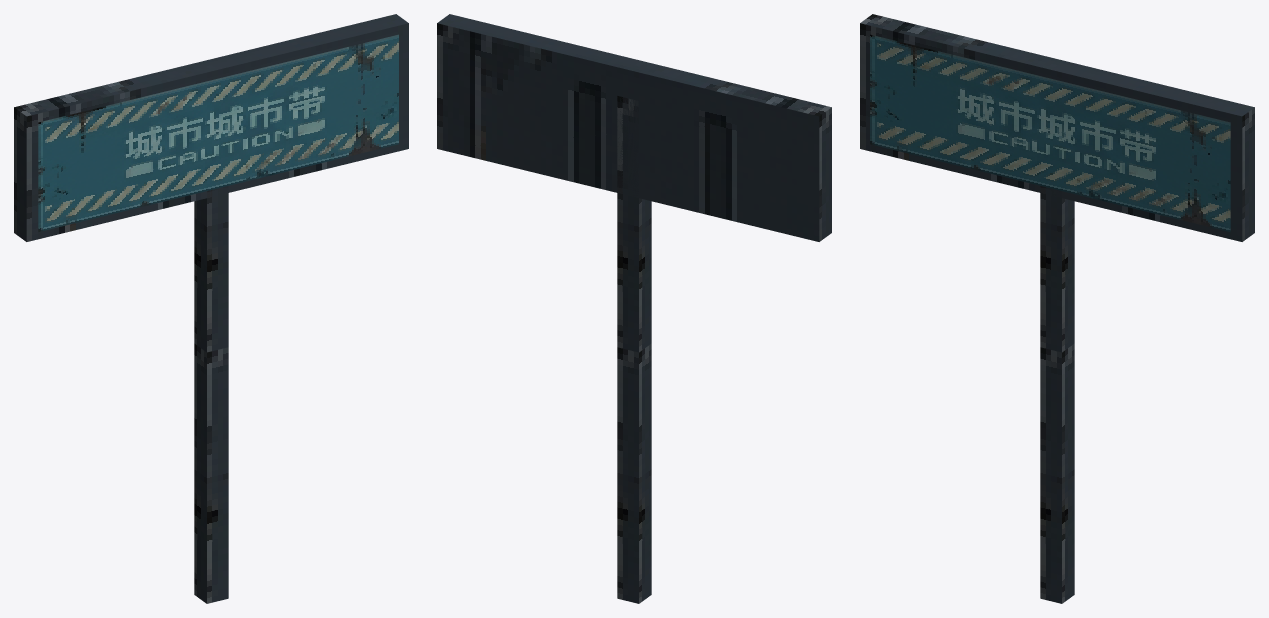
Rendered from direction_sign.glb.
The picture shows the model from 3 angles, left to right: view 1: azimuth 30°, elevation 25°; view 2: azimuth 150°, elevation 25°; view 3: azimuth 330°, elevation 25°; orthographic projection.
Parts seen in each view (by area): view 1: direction_sign; view 2: direction_sign; view 3: direction_sign.
Part boxes in pixels (x1,y1,x2,y2): direction_sign: (14, 14, 408, 603); direction_sign: (437, 14, 831, 603); direction_sign: (860, 14, 1254, 603).
Bounding box in the file's own units: 1.75 × 2.33 × 0.107.
1 material, 1 textured.
